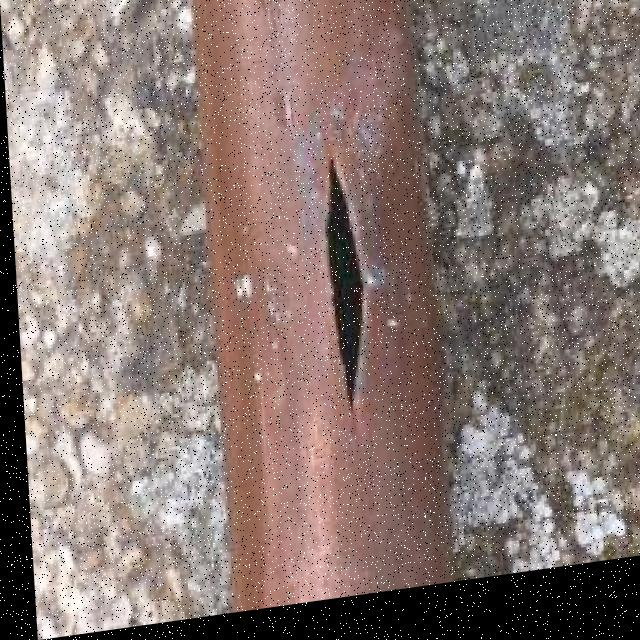rupture: (311, 157, 373, 435)
